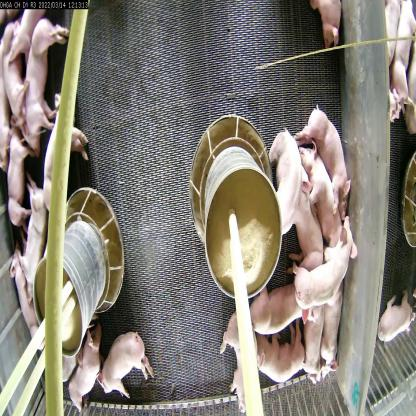Pig: (236, 319, 323, 410), (37, 90, 89, 225), (300, 104, 362, 209), (262, 128, 310, 250), (278, 230, 355, 304), (21, 13, 67, 136), (99, 325, 160, 415), (17, 182, 58, 311), (298, 147, 346, 247), (240, 255, 303, 330), (315, 294, 356, 399), (60, 327, 101, 411), (294, 286, 331, 379)
